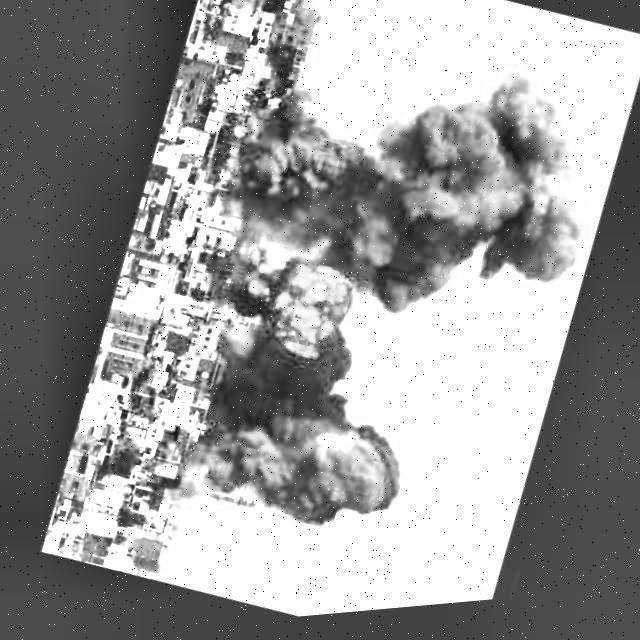Fire: (208, 233, 368, 385)
Smoke: (213, 14, 625, 368), (194, 337, 426, 555)
